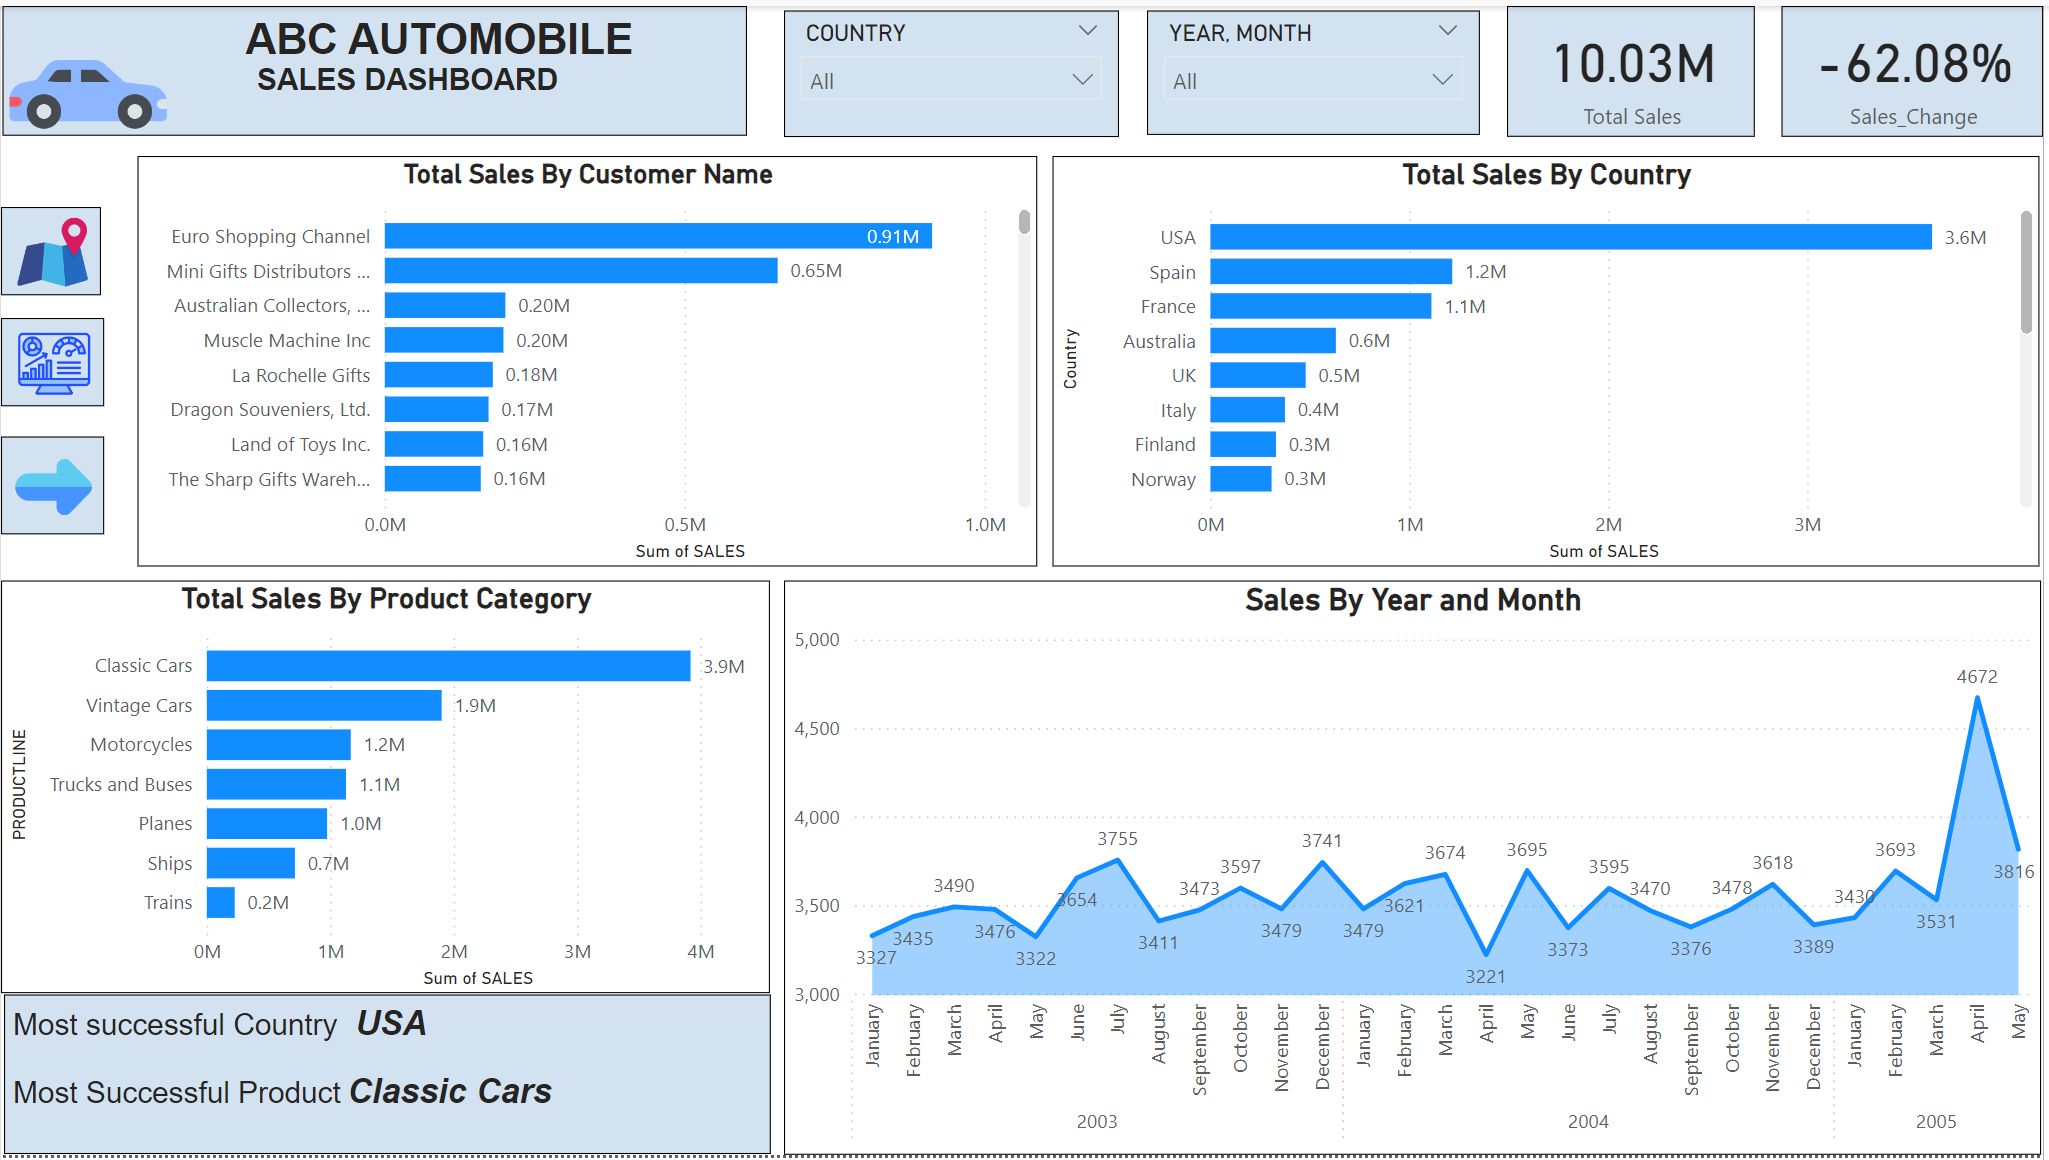

The dashboard page shown, as its layout file describes it:
{"tool":"powerbi","page":{"name":"Sales","canvas":[1280,720],"ordinal":0},"visuals":[{"type":"clusteredBarChart","title":"Total Sales By Country","fields":{"Category":["DimCountry.COUNTRY"],"Y":["Sum(Fact_Table.SALES)"]},"box":[659.4,94,618.6,257.3],"z":0},{"type":"clusteredBarChart","title":"Total Sales By Product Category","fields":{"Y":["Sum(Fact_Table.SALES)"],"Category":["DimPRODUCTLINE.PRODUCTLINE"]},"box":[0,360.6,482.3,258.9],"z":1000},{"type":"areaChart","title":"Sales By Year and Month","fields":{"Y":["Avg(Fact_Table.SALES)"],"Category":["DimDate.CALENDARYEAR","DimDate.CALENDARMONTH"]},"box":[491.1,360,788,360],"z":2000},{"type":"textbox","box":[1.2,0,466.4,81.7],"z":3000},{"type":"image","box":[0,125.6,62.8,55.1],"z":4000},{"type":"image","box":[0,195.7,64.7,55.5],"z":5000},{"type":"card","fields":{"Values":["DimCUSTOMER.Sales_Change"]},"box":[1116,0,164,82],"z":6000},{"type":"clusteredBarChart","title":"Total Sales By Customer Name","fields":{"Y":["Sum(Fact_Table.SALES)"],"Category":["DimCUSTOMER.CUSTOMERNAME"]},"box":[85.4,94,564.1,257.3],"z":7000},{"type":"slicer","fields":{"Values":["DimDate.CALENDARYEAR","DimDate.CALENDARMONTH"]},"box":[718.4,2.9,208.4,78.2],"z":8000},{"type":"slicer","fields":{"Values":["DimCountry.COUNTRY"]},"box":[491.1,2.5,210.3,79.2],"z":9000},{"type":"image","box":[0,269.7,64.7,61.6],"z":10000},{"type":"textbox","box":[1.5,619.5,480.8,100.2],"z":11000},{"type":"image","box":[0,0,109,110],"z":12000},{"type":"card","fields":{"Values":["Sum(Fact_Table.SALES)"]},"box":[943.7,0,155.3,82],"z":13000}]}

Visuals, with their boxes in screenshot pixels (x1, y1, x2, y2), scaled from the page's 1280x720 canvas onto the 2049x1160 screenshot:
"Total Sales By Country" clusteredBarChart: 1056:151:2046:566
"Total Sales By Product Category" clusteredBarChart: 0:581:772:998
"Sales By Year and Month" areaChart: 786:580:2048:1159
textbox: 2:0:749:132
image: 0:202:101:291
image: 0:315:104:405
card - DimCUSTOMER.Sales_Change: 1786:0:2048:132
"Total Sales By Customer Name" clusteredBarChart: 137:151:1040:566
slicer - DimDate.CALENDARYEAR x DimDate.CALENDARMONTH: 1150:5:1484:131
slicer - DimCountry.COUNTRY: 786:4:1123:132
image: 0:435:104:534
textbox: 2:998:772:1159
image: 0:0:174:177
card - Sum(Fact_Table.SALES): 1511:0:1759:132
